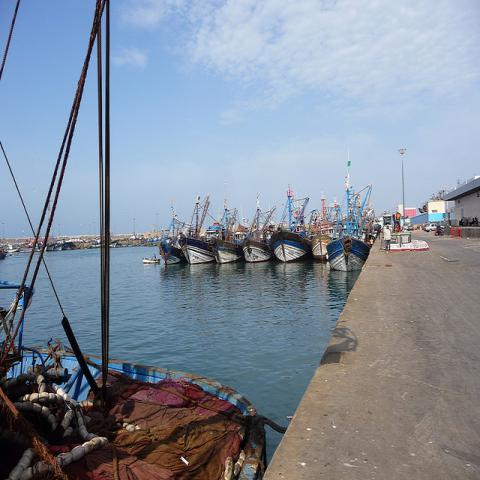car: (423, 223, 444, 232)
